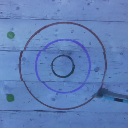Axe Tip: (90, 93, 100, 97)
